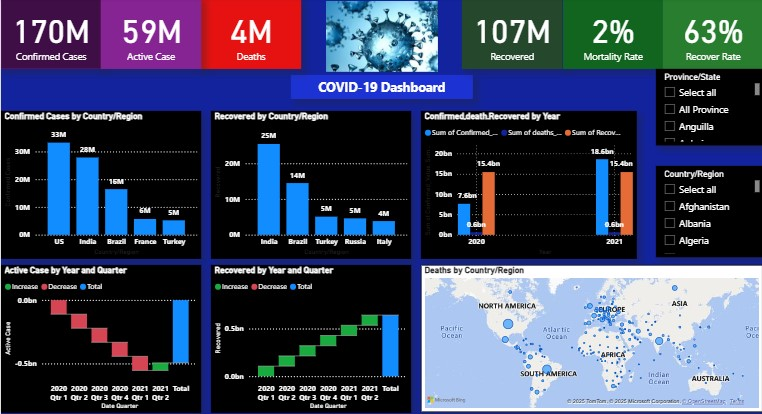

Layout of this report page (visuals, bound fields, positions):
{"tool":"powerbi","page":{"name":"Page 1","canvas":[1280,720],"ordinal":0},"visuals":[{"type":"image","box":[503.8,0,271.4,129.4],"z":0},{"type":"textbox","box":[487.3,129.4,305.4,39.9],"z":1000},{"type":"card","fields":{"Values":["covid_19_confirmed.Confirmed Cases"]},"box":[0,0,168.3,118.7],"z":2000},{"type":"card","fields":{"Values":["covid_19_confirmed.Deaths"]},"box":[335.6,0,168.3,118.7],"z":3000},{"type":"card","fields":{"Values":["covid_19_confirmed.Recovered"]},"box":[775.2,0,168.3,118.7],"z":4000},{"type":"card","fields":{"Values":["covid_19_confirmed.Active Case"]},"box":[167.3,0,168.3,118.7],"z":5000},{"type":"card","fields":{"Values":["covid_19_confirmed.Mortality Rate"]},"box":[943.5,0,168.3,118.7],"z":6000},{"type":"card","fields":{"Values":["covid_19_confirmed.Recover Rate"]},"box":[1111.7,0,168.3,118.7],"z":7000},{"type":"columnChart","fields":{"Category":["covid_19_confirmed.Country/Region"],"Y":["covid_19_confirmed.Confirmed Cases"]},"box":[0,189.7,335.6,248],"z":8000},{"type":"slicer","fields":{"Values":["covid_19_recovered.Province/State"]},"box":[1100.3,119.3,179.7,127.7],"z":9000},{"type":"slicer","fields":{"Values":["covid_19_recovered.Country/Region"]},"box":[1100.3,282.2,179.7,152.9],"z":11000},{"type":"columnChart","fields":{"Y":["covid_19_confirmed.Recovered"],"Category":["covid_19_recovered.Country/Region"]},"box":[352.1,189.7,335.6,248],"z":11001},{"type":"waterfallChart","fields":{"Category":["covid_19_confirmed.Date.Variation.Date Hierarchy.Year","covid_19_confirmed.Date.Variation.Date Hierarchy.Quarter","covid_19_confirmed.Date.Variation.Date Hierarchy.Month","covid_19_confirmed.Date.Variation.Date Hierarchy.Day"],"Y":["covid_19_confirmed.Active Case"]},"box":[0,448.4,335.6,248],"z":11002},{"type":"waterfallChart","fields":{"Category":["covid_19_confirmed.Date.Variation.Date Hierarchy.Year","covid_19_confirmed.Date.Variation.Date Hierarchy.Quarter","covid_19_confirmed.Date.Variation.Date Hierarchy.Month","covid_19_confirmed.Date.Variation.Date Hierarchy.Day"],"Y":["covid_19_confirmed.Recovered"]},"box":[352.1,448.4,335.6,248],"z":11003},{"type":"clusteredColumnChart","title":"Confirmed,death.Recovered by Year","fields":{"Category":["covid_19_confirmed.Date.Variation.Date Hierarchy.Year","covid_19_confirmed.Date.Variation.Date Hierarchy.Quarter","covid_19_confirmed.Date.Variation.Date Hierarchy.Month","covid_19_confirmed.Date.Variation.Date Hierarchy.Day"],"Y":["Sum(covid_19_confirmed.Confirmed_Value)","Sum(covid_19_deaths.deaths_value)","Sum(covid_19_recovered.Recovered_Value)"]},"box":[705.2,189.7,361.8,248],"z":11004},{"type":"map","fields":{"Size":["covid_19_confirmed.Deaths"],"Category":["covid_19_deaths.Country/Region"]},"box":[705.5,448.5,574.5,246.9],"z":11005}]}

Visuals, with their boxes on the page's 1280x720 design canvas (x1, y1, x2, y2). These are canvas units, not pixel positions in the 762x414 screenshot, which may show the page scaled, cropped or inside an application window:
image: 504 0 775 129
textbox: 487 129 793 169
card - covid_19_confirmed.Confirmed Cases: 0 0 168 119
card - covid_19_confirmed.Deaths: 336 0 504 119
card - covid_19_confirmed.Recovered: 775 0 944 119
card - covid_19_confirmed.Active Case: 167 0 336 119
card - covid_19_confirmed.Mortality Rate: 944 0 1112 119
card - covid_19_confirmed.Recover Rate: 1112 0 1280 119
columnChart - covid_19_confirmed.Country/Region x covid_19_confirmed.Confirmed Cases: 0 190 336 438
slicer - covid_19_recovered.Province/State: 1100 119 1280 247
slicer - covid_19_recovered.Country/Region: 1100 282 1280 435
columnChart - covid_19_confirmed.Recovered x covid_19_recovered.Country/Region: 352 190 688 438
waterfallChart - covid_19_confirmed.Date.Variation.Date Hierarchy.Year x covid_19_confirmed.Date.Variation.Date Hierarchy.Quarter: 0 448 336 696
waterfallChart - covid_19_confirmed.Date.Variation.Date Hierarchy.Year x covid_19_confirmed.Date.Variation.Date Hierarchy.Quarter: 352 448 688 696
"Confirmed,death.Recovered by Year" clusteredColumnChart: 705 190 1067 438
map - covid_19_confirmed.Deaths x covid_19_deaths.Country/Region: 706 448 1280 695
